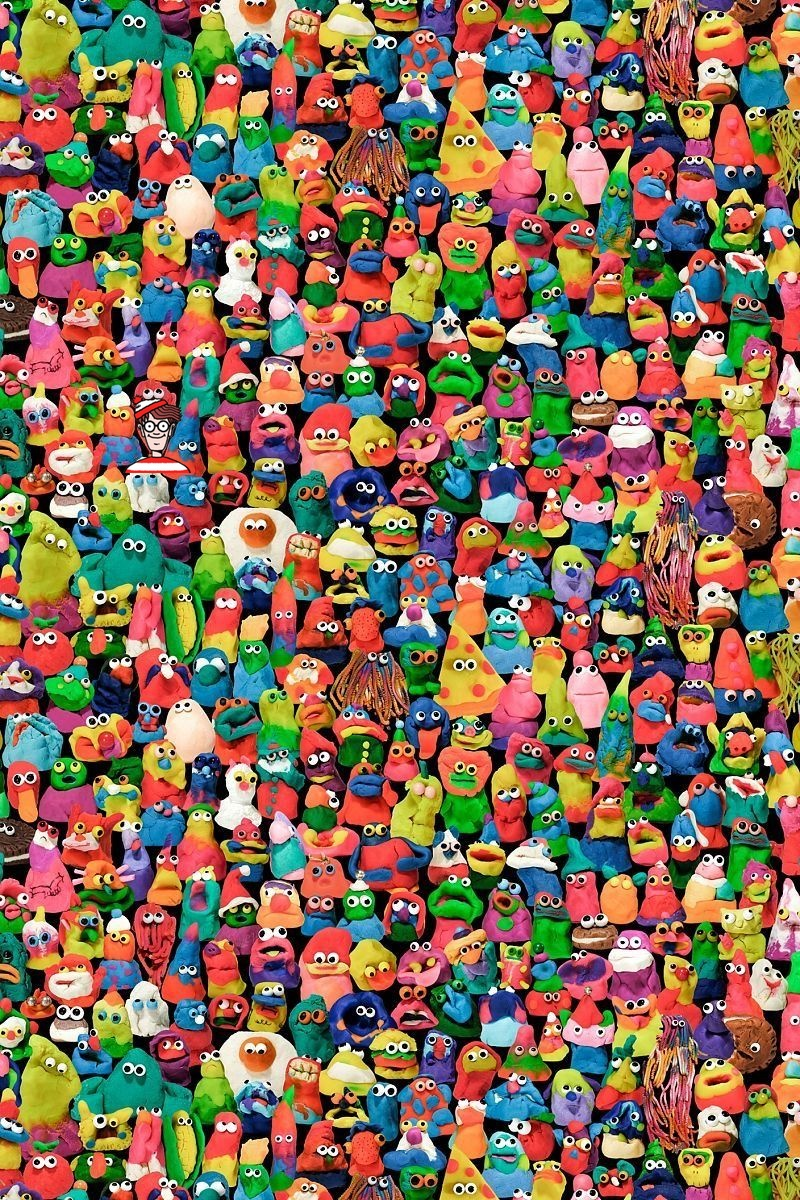waldo: (123, 394, 191, 473)
